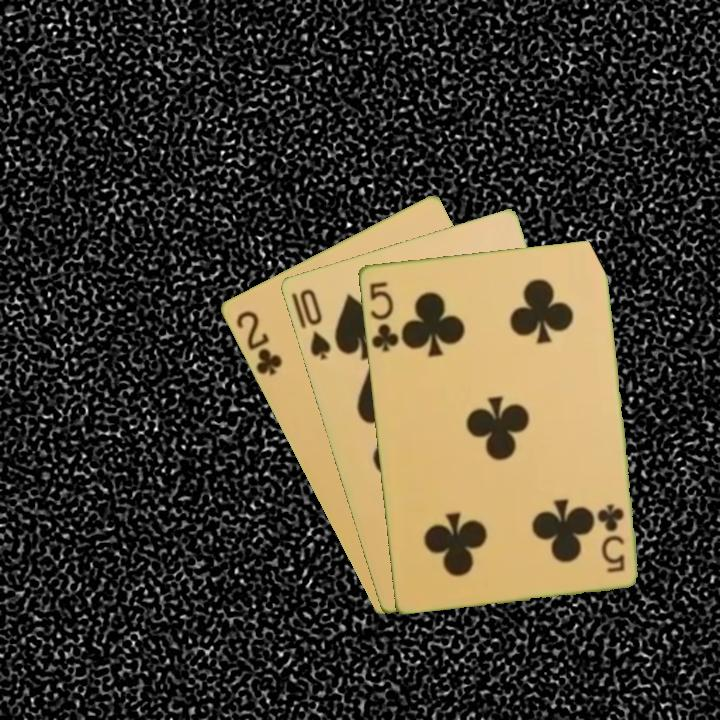10s: (295, 285, 333, 363)
2c: (232, 306, 285, 378)
5c: (365, 277, 401, 354), (594, 500, 627, 575)
